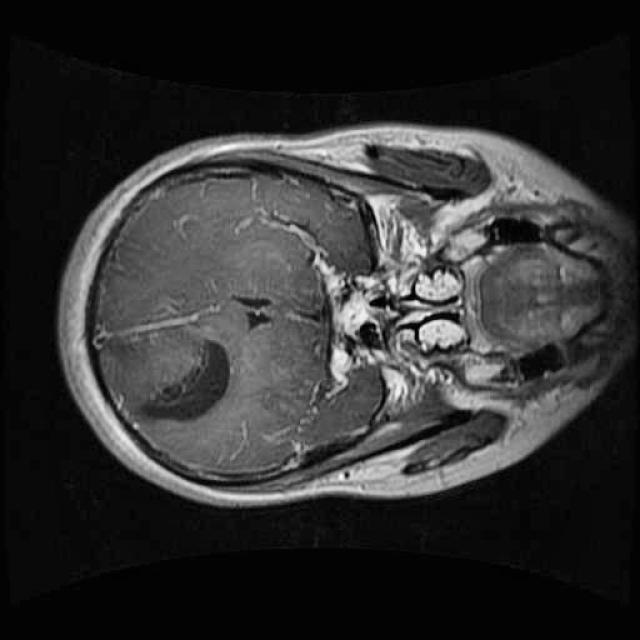Non-Tumor: (96, 322, 245, 438)
